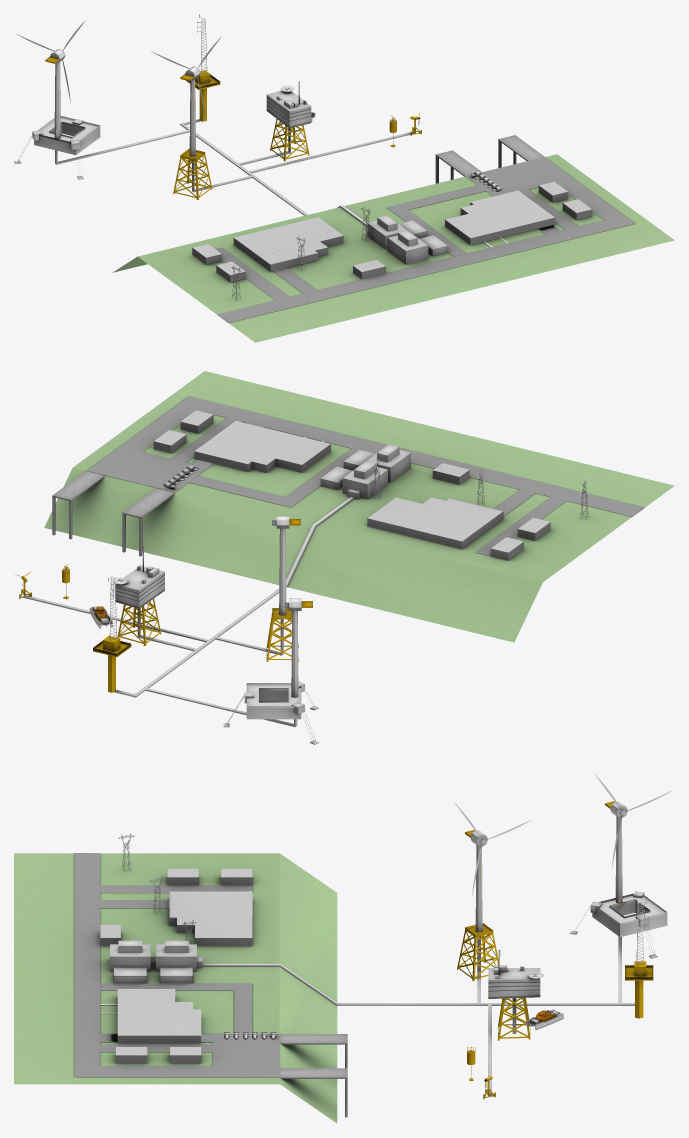
3 renders of one model, top to bottom at view 1: azimuth 30°, elevation 25°; view 2: azimuth 150°, elevation 25°; view 3: azimuth 270°, elevation 25°, orthographic. The views are drawn at different scales.
Parts seen in each view (by area): view 1: sol_vert, bat1, eolienne1, bat2, pipeline, plateforme, eolienne2, ponton, boat, pylones; view 2: sol_vert, bat1, eolienne1, pipeline, bat2, plateforme, ponton, eolienne2, boat; view 3: sol_vert, bat1, eolienne1, bat2, plateforme, pipeline, eolienne2, boat, ponton, pylones.
Boxes of the visible parts, <box> form: sol_vert: <box>112,154,674,342</box>; bat1: <box>192,157,634,322</box>; eolienne1: <box>14,20,100,179</box>; bat2: <box>367,215,447,264</box>; pipeline: <box>55,119,414,226</box>; plateforme: <box>266,81,311,161</box>; eolienne2: <box>151,37,220,199</box>; ponton: <box>435,135,544,183</box>; boat: <box>186,14,396,147</box>; pylones: <box>231,206,371,300</box>; sol_vert: <box>44,371,674,642</box>; bat1: <box>87,396,644,560</box>; eolienne1: <box>223,598,318,744</box>; pipeline: <box>23,497,354,727</box>; bat2: <box>320,444,410,499</box>; plateforme: <box>112,545,164,645</box>; ponton: <box>52,471,174,556</box>; eolienne2: <box>266,516,300,661</box>; boat: <box>62,564,131,692</box>; sol_vert: <box>14,853,337,1123</box>; bat1: <box>74,853,279,1076</box>; eolienne1: <box>570,774,673,958</box>; bat2: <box>110,940,202,983</box>; plateforme: <box>488,950,543,1040</box>; pipeline: <box>202,936,634,1096</box>; eolienne2: <box>454,802,532,981</box>; boat: <box>467,900,653,1080</box>; ponton: <box>279,1034,347,1117</box>; pylones: <box>118,833,196,943</box>.
Size of what is drawn, in the model's own units: 112 by 135 by 40.57.
